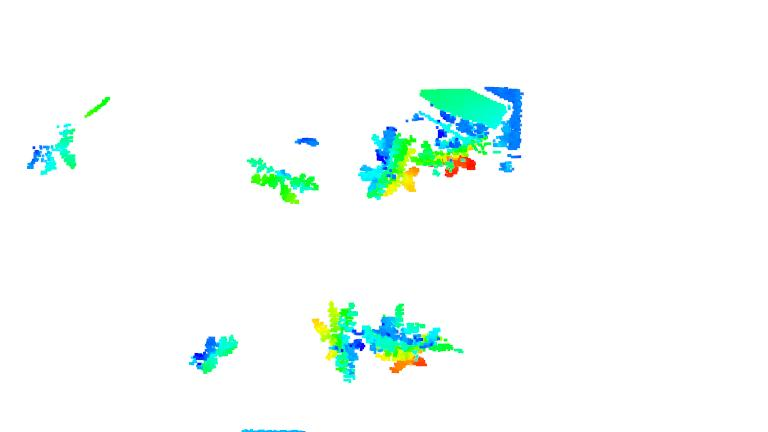chickpea: (365, 302, 464, 374), (357, 126, 419, 201), (311, 301, 364, 385), (241, 156, 320, 206), (26, 118, 79, 178), (414, 140, 492, 177), (184, 332, 241, 378)
